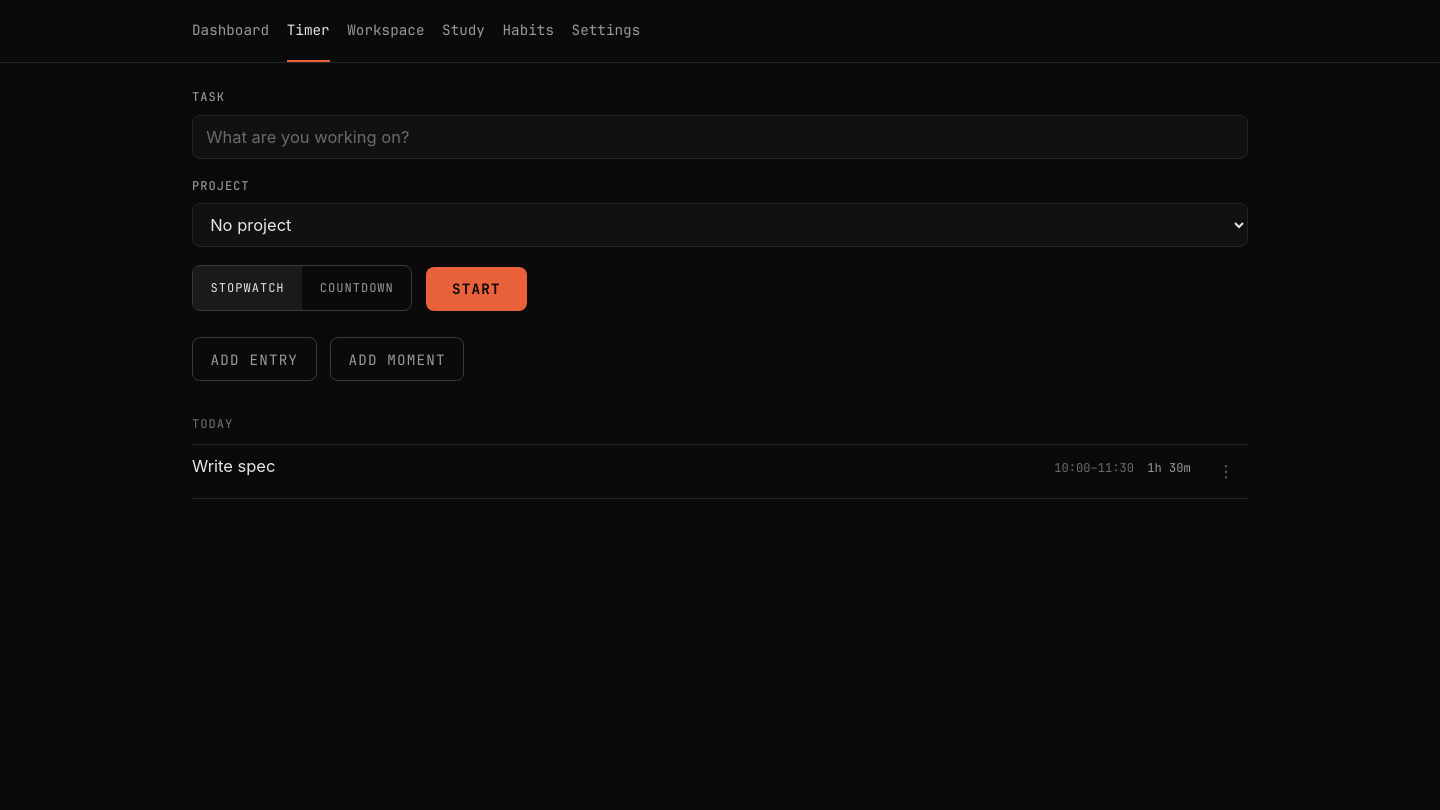
Scenario: deleting a time entry › deletes from the row's ⋮ menu in one press
The width and height of the screenshot is (1440, 810).
What coordinates should you click on to do the following:
click the button named "More Write spec"
I would click on:
 (1226, 472)
Its box is [1204,454,1248,489].
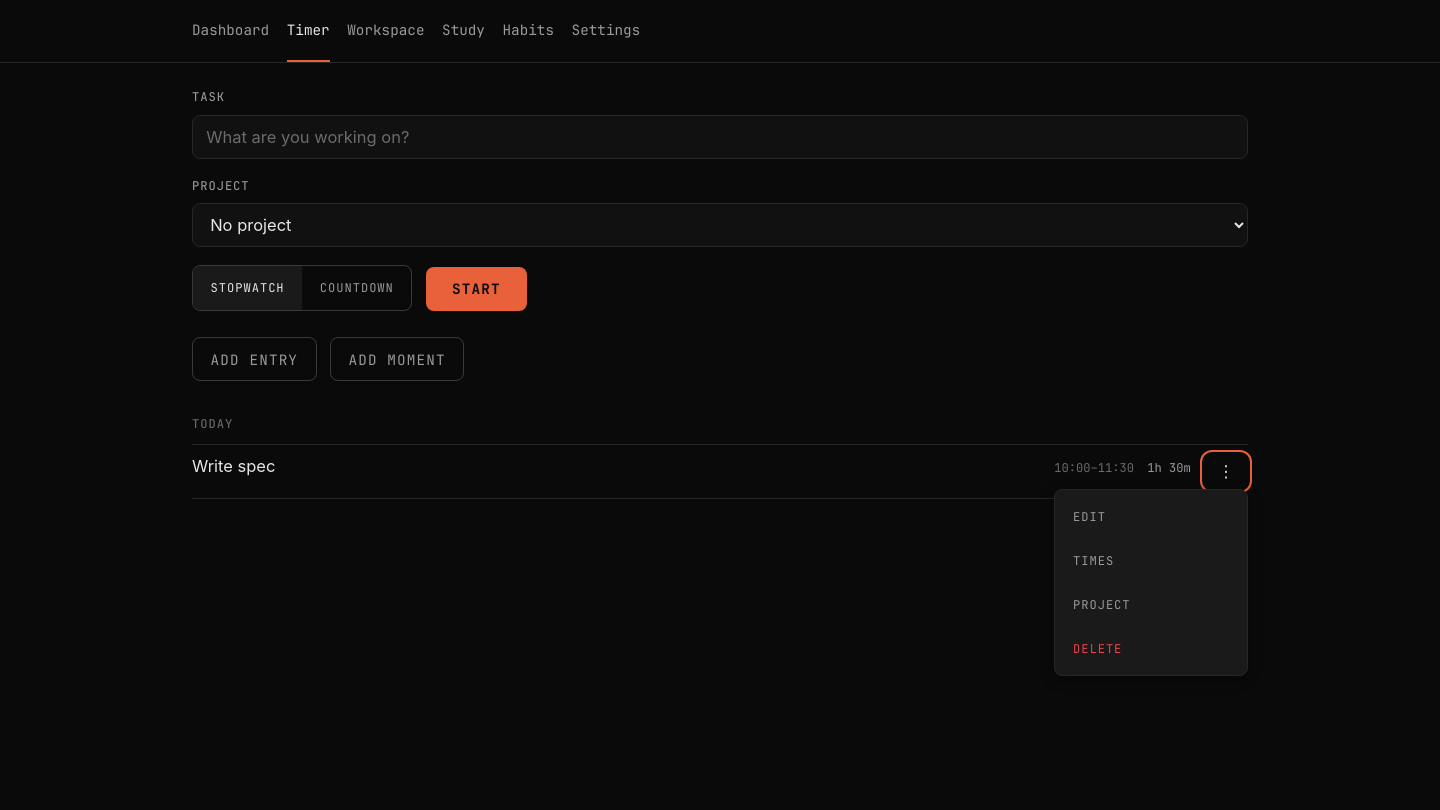
What coordinates should you click on to do the following:
click the button "Delete"
I would click on:
 (1151, 649)
Its box is [1060,627,1243,671].
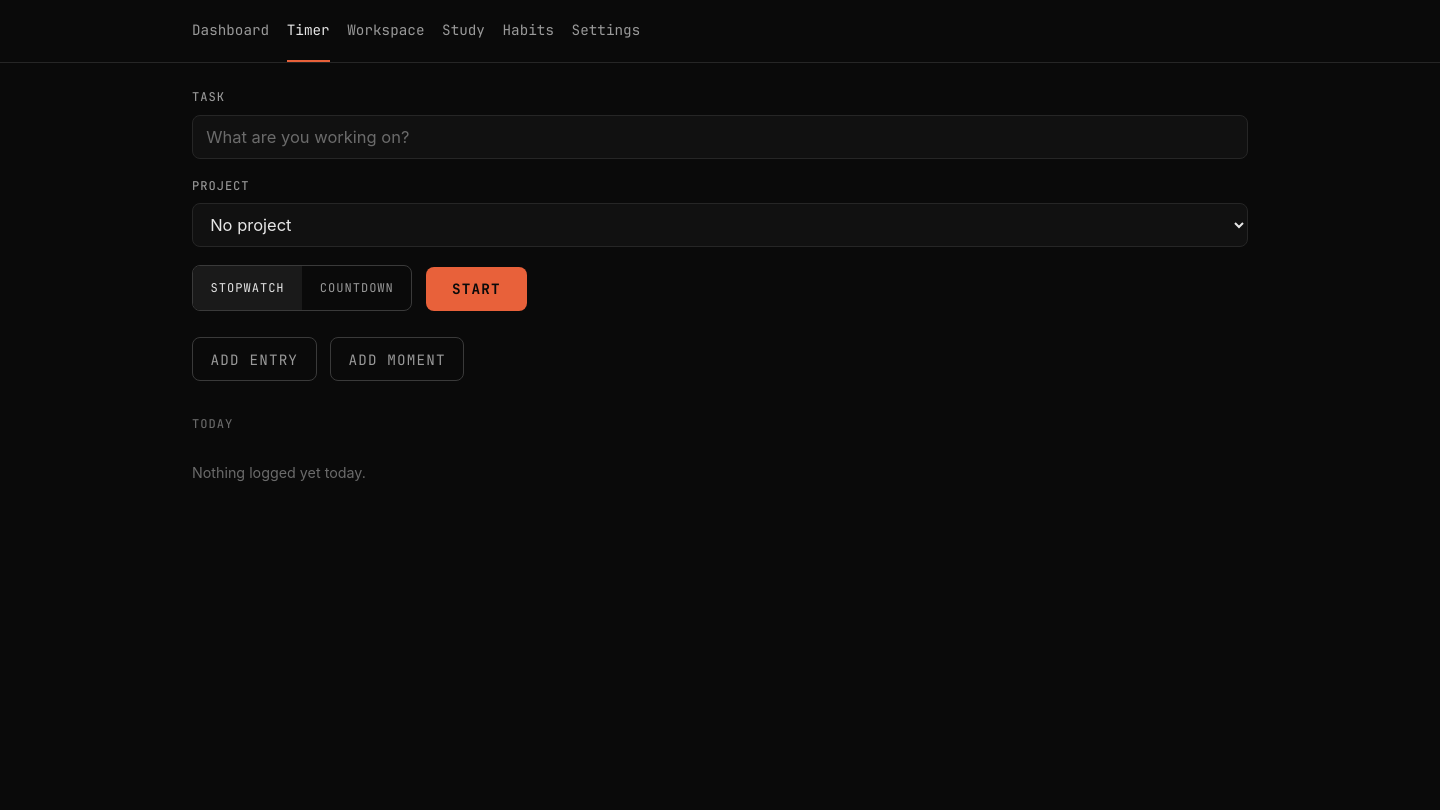
Result: the button "Write spec" is gone
